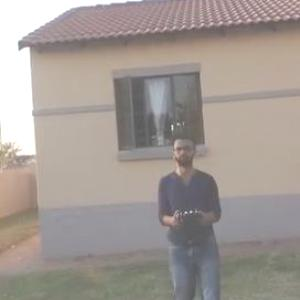follow: (148, 125, 223, 299)
